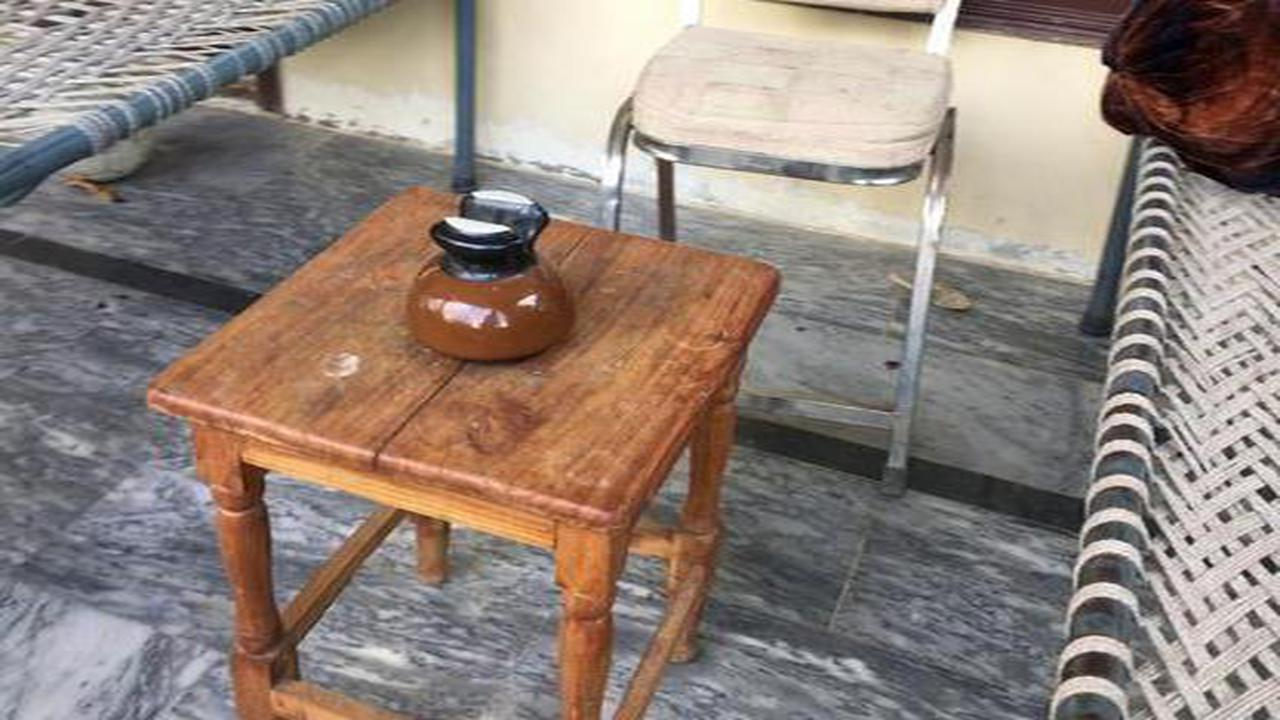insulator_pin: (391, 181, 597, 374)
